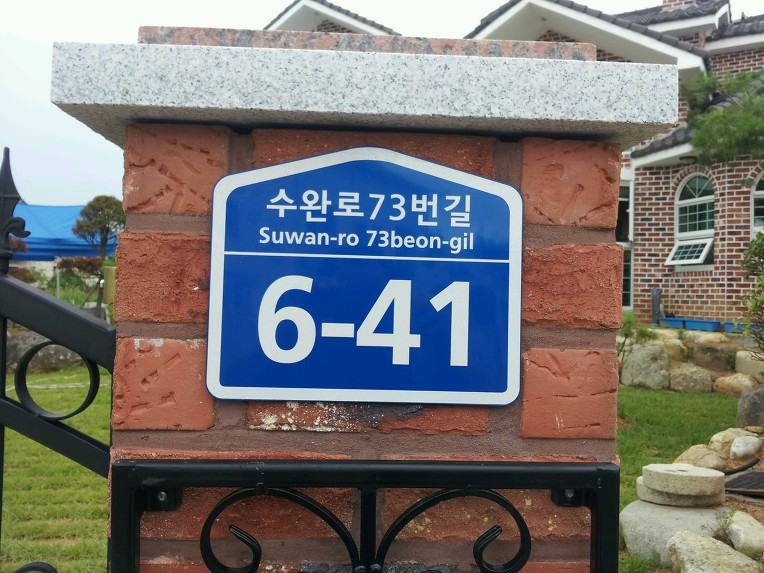building_license_plate1: (207, 146, 524, 404)
